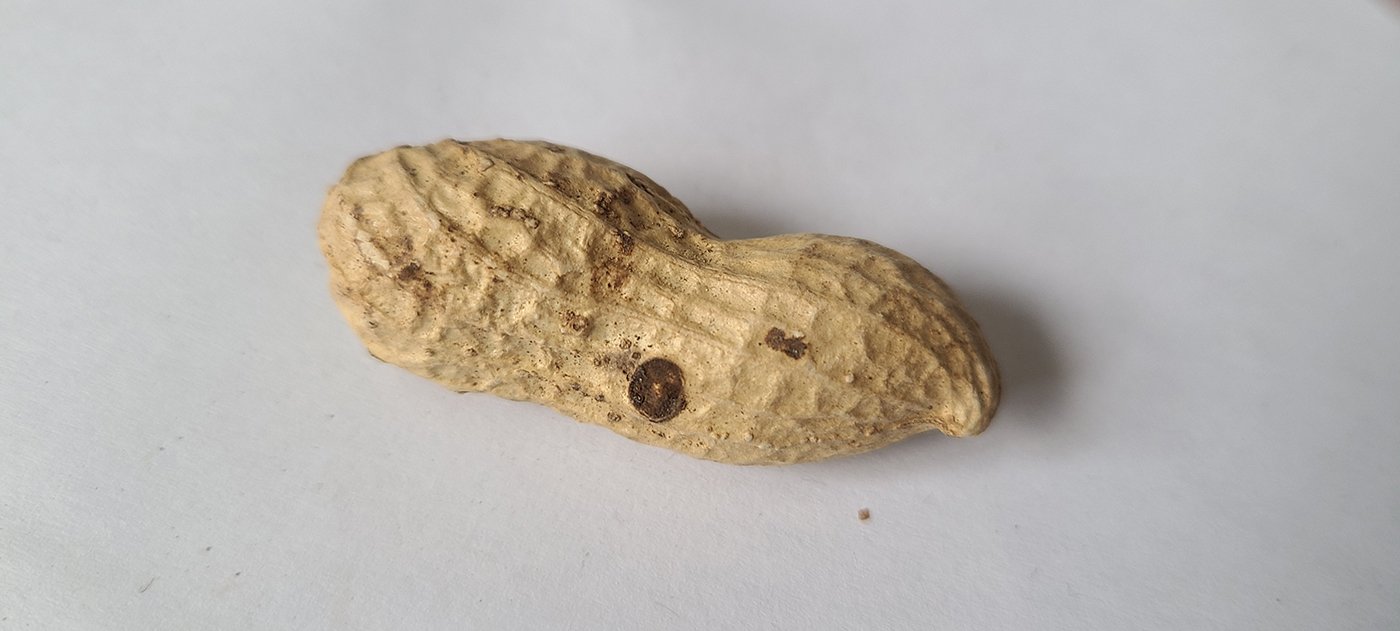h: (314, 136, 1007, 468)
